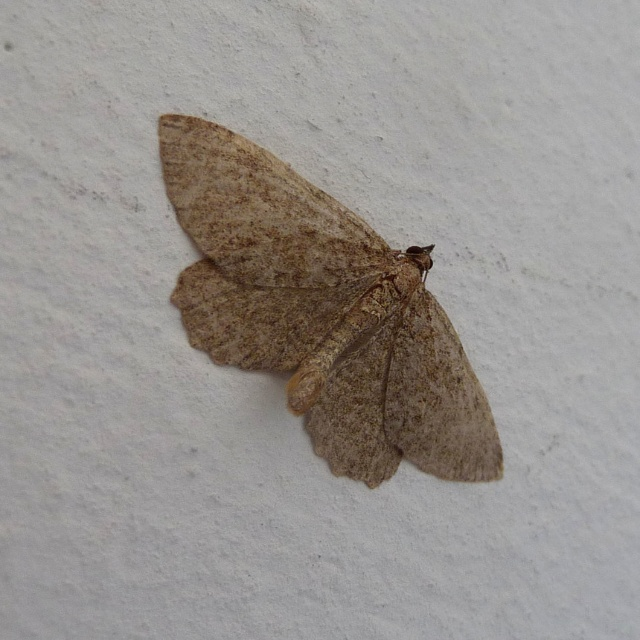Moths and butterflies: (162, 114, 504, 495)
